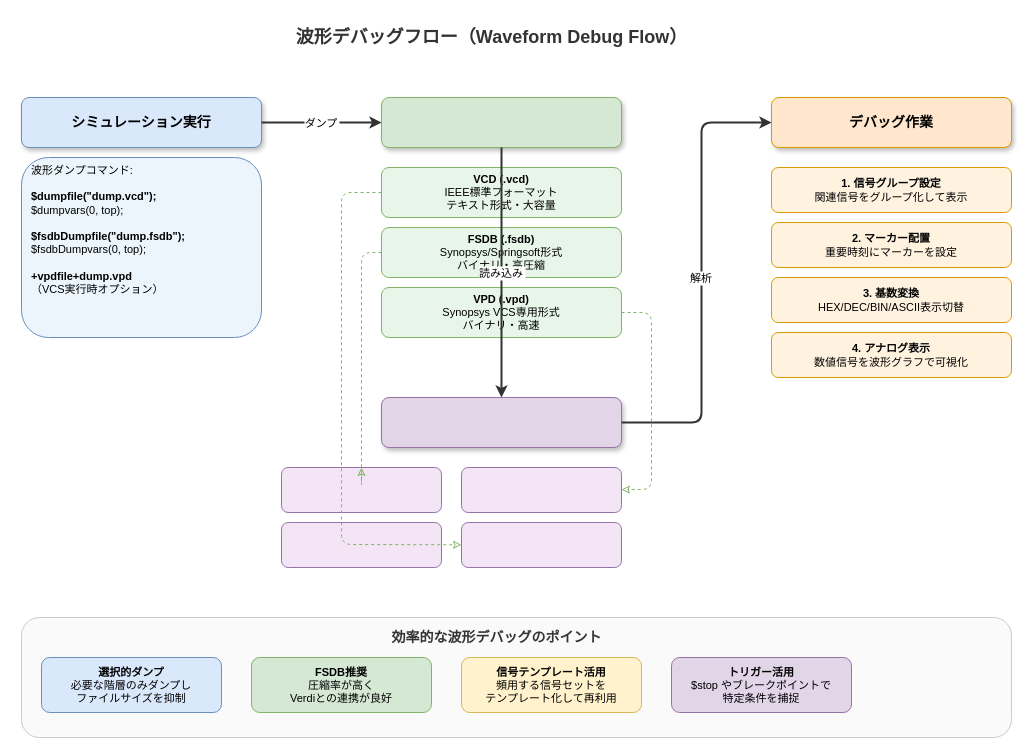
Some shapes in this 1035 by 755 pixel diagram are drawn without their labels. Here are the shapes that lost their labels. From the top down, the centre of each, then its label:
At (502,123): "波形ファイル生成".
At (502,423): "波形ビューワ".
At (361,489): "Verdi （Synopsys） FSDB対応・業界標準".
At (541,489): "DVE （Synopsys） VPD対応・VCS付属".
At (361,545): "SimVision （Cadence） Xcelium付属".
At (541,545): "GTKWave （OSS） VCD対応・無料".
